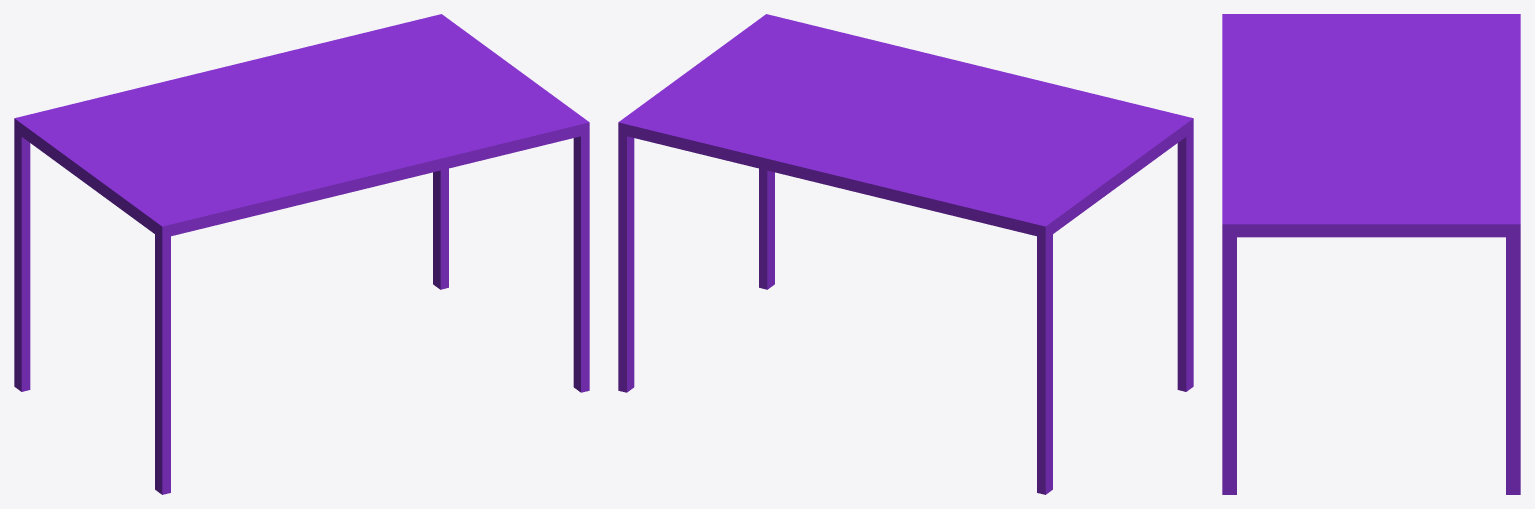
Rendered from table.fbx.
3 views of the same model, side by side, from view 1: azimuth 30°, elevation 25°; view 2: azimuth 150°, elevation 25°; view 3: azimuth 270°, elevation 25° (orthographic).
Parts seen in each view (by area): view 1: Cube; view 2: Cube; view 3: Cube.
Boxes of the visible parts, x1,y1,x2,y2 form: Cube: [14, 14, 589, 494]; Cube: [618, 14, 1193, 494]; Cube: [1222, 14, 1520, 494].
Bounding box in the file's own units: 665 × 399 × 399.
